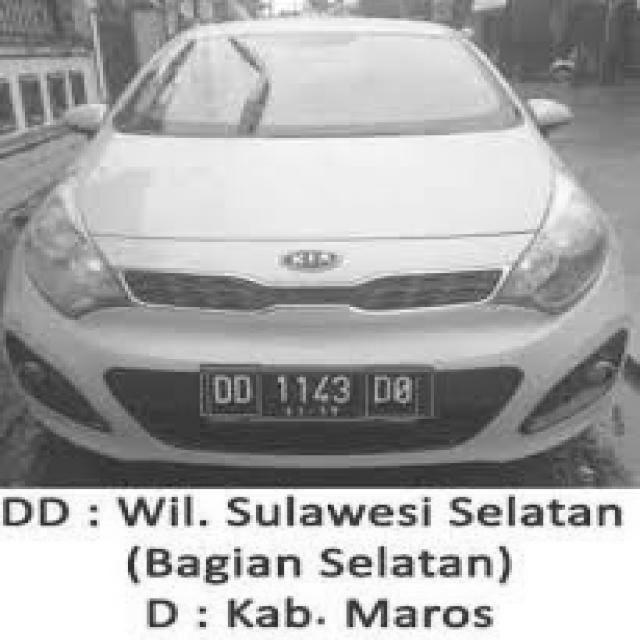1: (290, 370, 312, 412), (276, 370, 292, 410)
3: (333, 370, 353, 412)
4: (313, 378, 333, 418)
D: (370, 373, 392, 416), (212, 373, 235, 407), (232, 374, 253, 409)
O: (391, 372, 418, 415)
